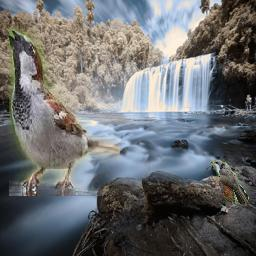Cuckoo: (211, 160, 250, 205)
Sparrow: (10, 30, 121, 197)
